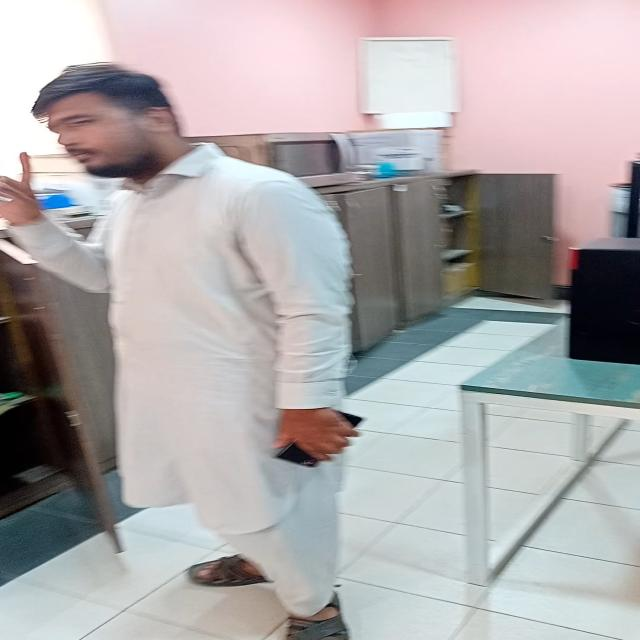dress: (59, 142, 357, 608)
